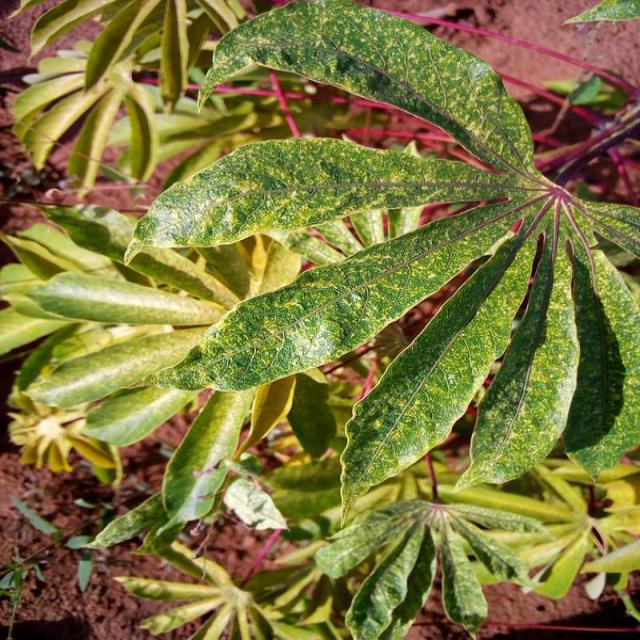cassava leaf: (124, 1, 638, 526)
